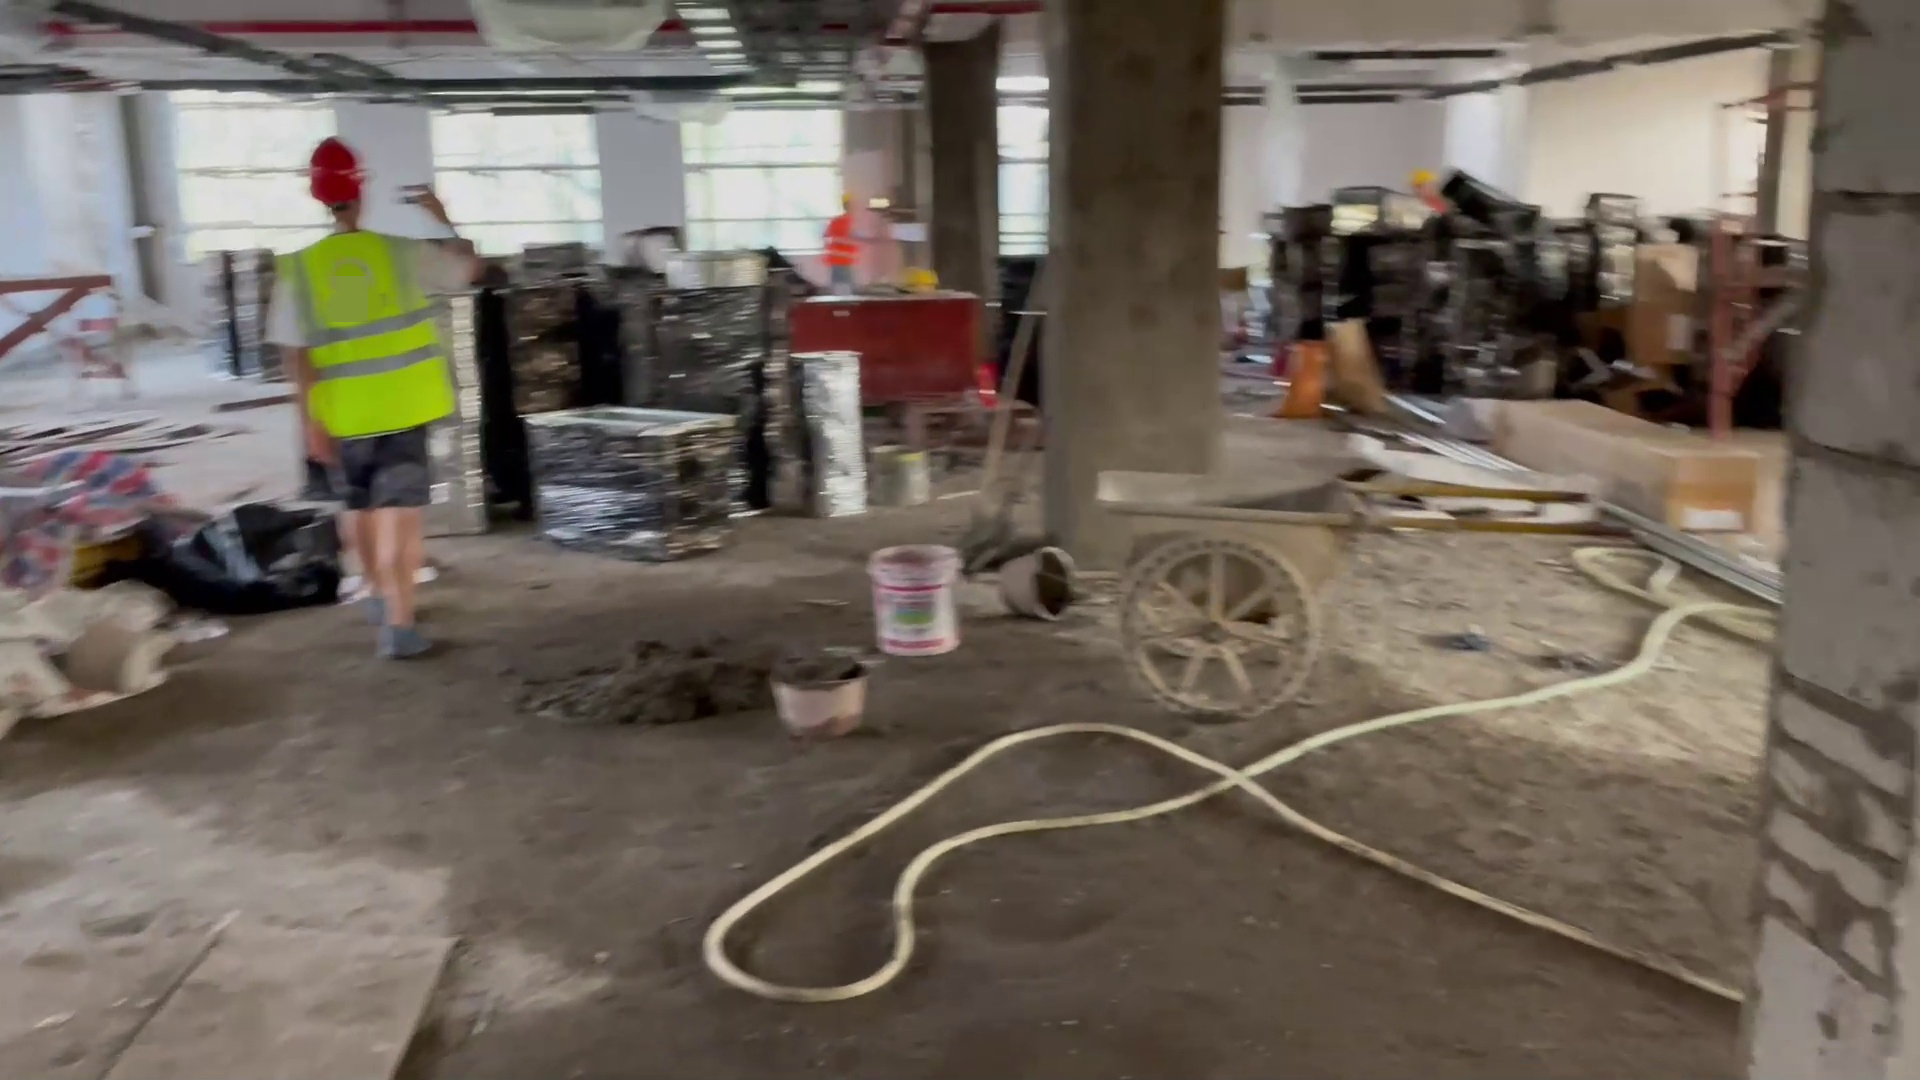handcart: (1078, 448, 1642, 724)
helmet: (300, 135, 373, 197), (899, 264, 942, 295), (1410, 168, 1438, 202), (838, 190, 859, 206)
person: (258, 136, 453, 660), (815, 193, 872, 298)
vest: (280, 225, 456, 434), (820, 209, 864, 267)
